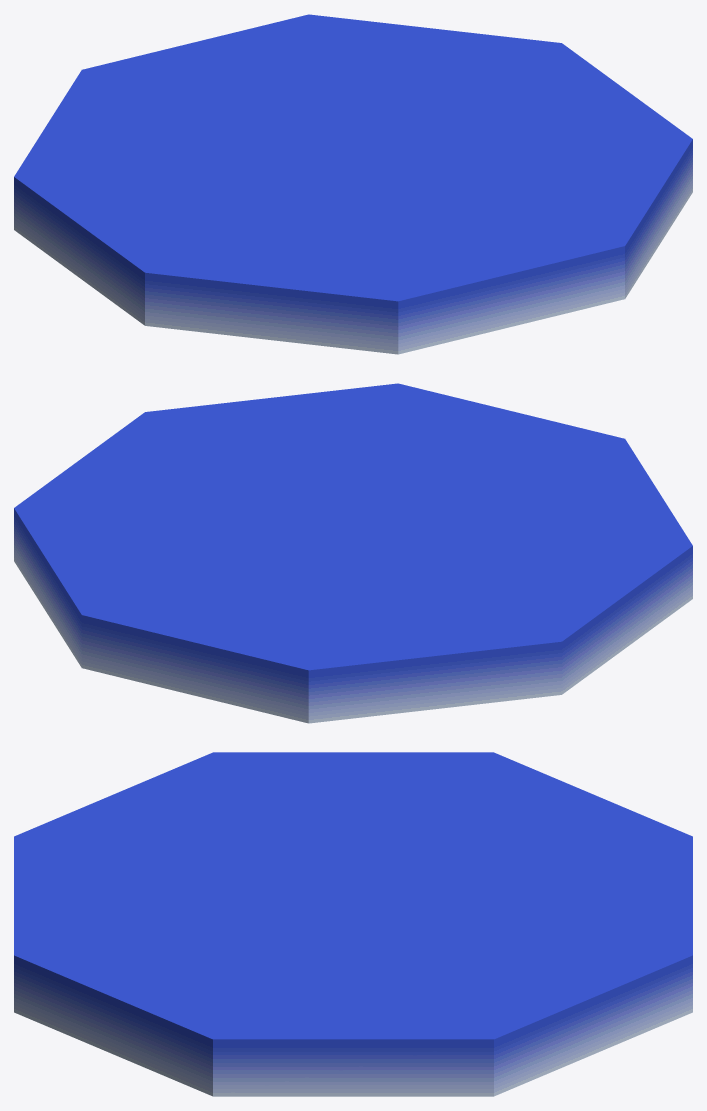
File: old_noko_sfc-old_noko_sfc_V.glb
3 views of the same model, one above another, from view 1: azimuth 30°, elevation 25°; view 2: azimuth 150°, elevation 25°; view 3: azimuth 270°, elevation 25° (orthographic). The views are drawn at different scales.
Visible parts, largest first — view 1: old_noko_sfc_V; view 2: old_noko_sfc_V; view 3: old_noko_sfc_V.
Boxes of the visible parts, <box> form: old_noko_sfc_V: <box>14,14,692,354</box>; old_noko_sfc_V: <box>14,383,692,723</box>; old_noko_sfc_V: <box>14,752,692,1096</box>.
Size of the model in its own units: 674 by 63.62 by 674.
Materials: 2 (2 with a texture image).
